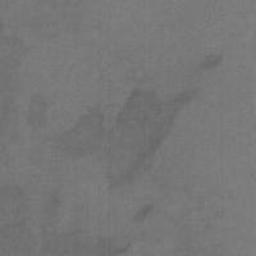Water spot: (46, 51, 224, 191), (27, 92, 47, 129), (95, 239, 133, 256), (132, 202, 152, 223), (49, 196, 60, 218)
